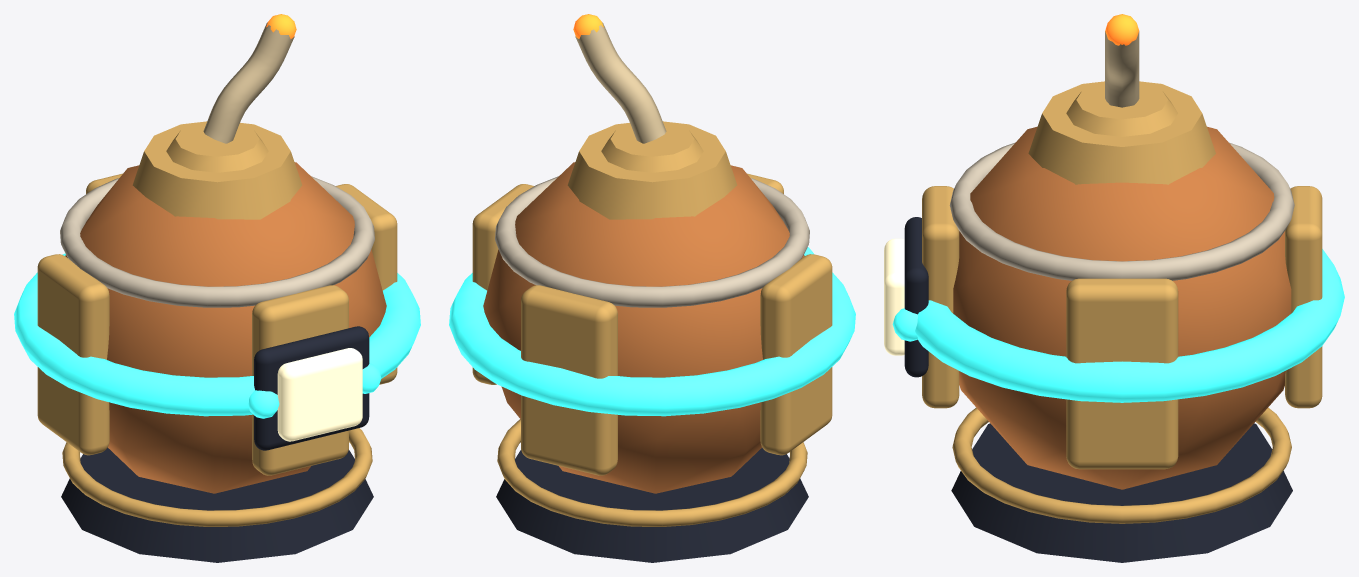
The model's file is power.glb.
3 renders of one model, left to right at view 1: azimuth 30°, elevation 25°; view 2: azimuth 150°, elevation 25°; view 3: azimuth 270°, elevation 25°, orthographic. The views are drawn at different scales.
Visible parts, largest first — view 1: octagonal gold charge, gold shield plate (×3), weighted foot, maximum charge coil, wick socket, upper gold rim, indicator, lower edge, indicator bezel, braided wick, socket rim, cyan side crystal; view 2: octagonal gold charge, gold shield plate (×3), maximum charge coil, weighted foot, wick socket, upper gold rim, lower edge, braided wick, socket rim; view 3: octagonal gold charge, gold shield plate (×3), weighted foot, maximum charge coil, upper gold rim, wick socket, lower edge, socket rim, indicator bezel, braided wick, indicator, ember tip (+1 smaller).
Part boxes in pixels (left/top/right/bottom): octagonal gold charge: left=65, top=162, right=386, bottom=493; gold shield plate (×3): left=37, top=184, right=397, bottom=475; weighted foot: left=61, top=447, right=373, bottom=562; maximum charge coil: left=14, top=253, right=420, bottom=416; wick socket: left=132, top=121, right=302, bottom=219; upper gold rim: left=60, top=176, right=374, bottom=307; indicator: left=277, top=348, right=362, bottom=441; lower edge: left=62, top=428, right=372, bottom=526; indicator bezel: left=254, top=326, right=369, bottom=450; braided wick: left=203, top=22, right=294, bottom=143; socket rim: left=166, top=122, right=268, bottom=172; cyan side crystal: left=248, top=390, right=279, bottom=418; octagonal gold charge: left=483, top=162, right=804, bottom=493; gold shield plate (×3): left=472, top=184, right=832, bottom=475; maximum charge coil: left=449, top=253, right=855, bottom=416; weighted foot: left=496, top=447, right=808, bottom=562; wick socket: left=567, top=121, right=737, bottom=219; upper gold rim: left=495, top=176, right=809, bottom=307; lower edge: left=497, top=419, right=807, bottom=526; braided wick: left=575, top=22, right=666, bottom=143; socket rim: left=601, top=122, right=703, bottom=172; octagonal gold charge: left=953, top=126, right=1291, bottom=489; gold shield plate (×3): left=922, top=186, right=1322, bottom=469; weighted foot: left=951, top=423, right=1292, bottom=562; maximum charge coil: left=915, top=249, right=1344, bottom=402; upper gold rim: left=949, top=142, right=1294, bottom=280; wick socket: left=1028, top=81, right=1215, bottom=184; lower edge: left=952, top=407, right=1291, bottom=523; socket rim: left=1066, top=82, right=1177, bottom=136; indicator bezel: left=904, top=217, right=928, bottom=377; braided wick: left=1105, top=31, right=1139, bottom=107; indicator: left=884, top=238, right=904, bottom=355; ember tip: left=1105, top=14, right=1139, bottom=45.
Size of the model in its own units: 0.834 by 1.05 by 0.863.
